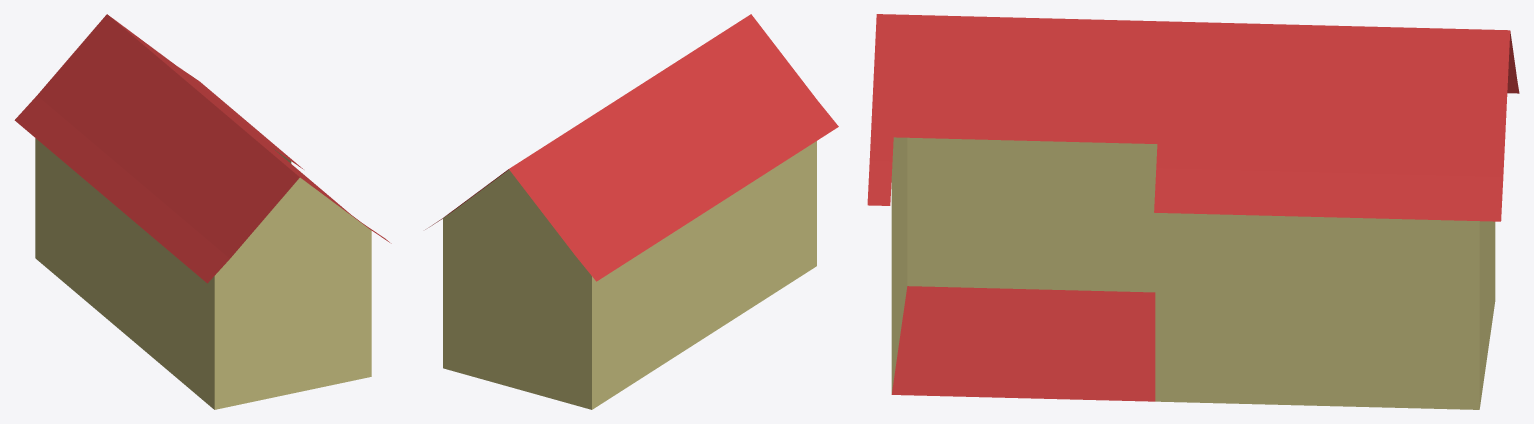
3 renders of one model, left to right at view 1: azimuth 30°, elevation 25°; view 2: azimuth 150°, elevation 25°; view 3: azimuth 270°, elevation 25°, orthographic. The views are drawn at different scales.
Size of the model in its own units: 14.92 by 28.47 by 15.71.
